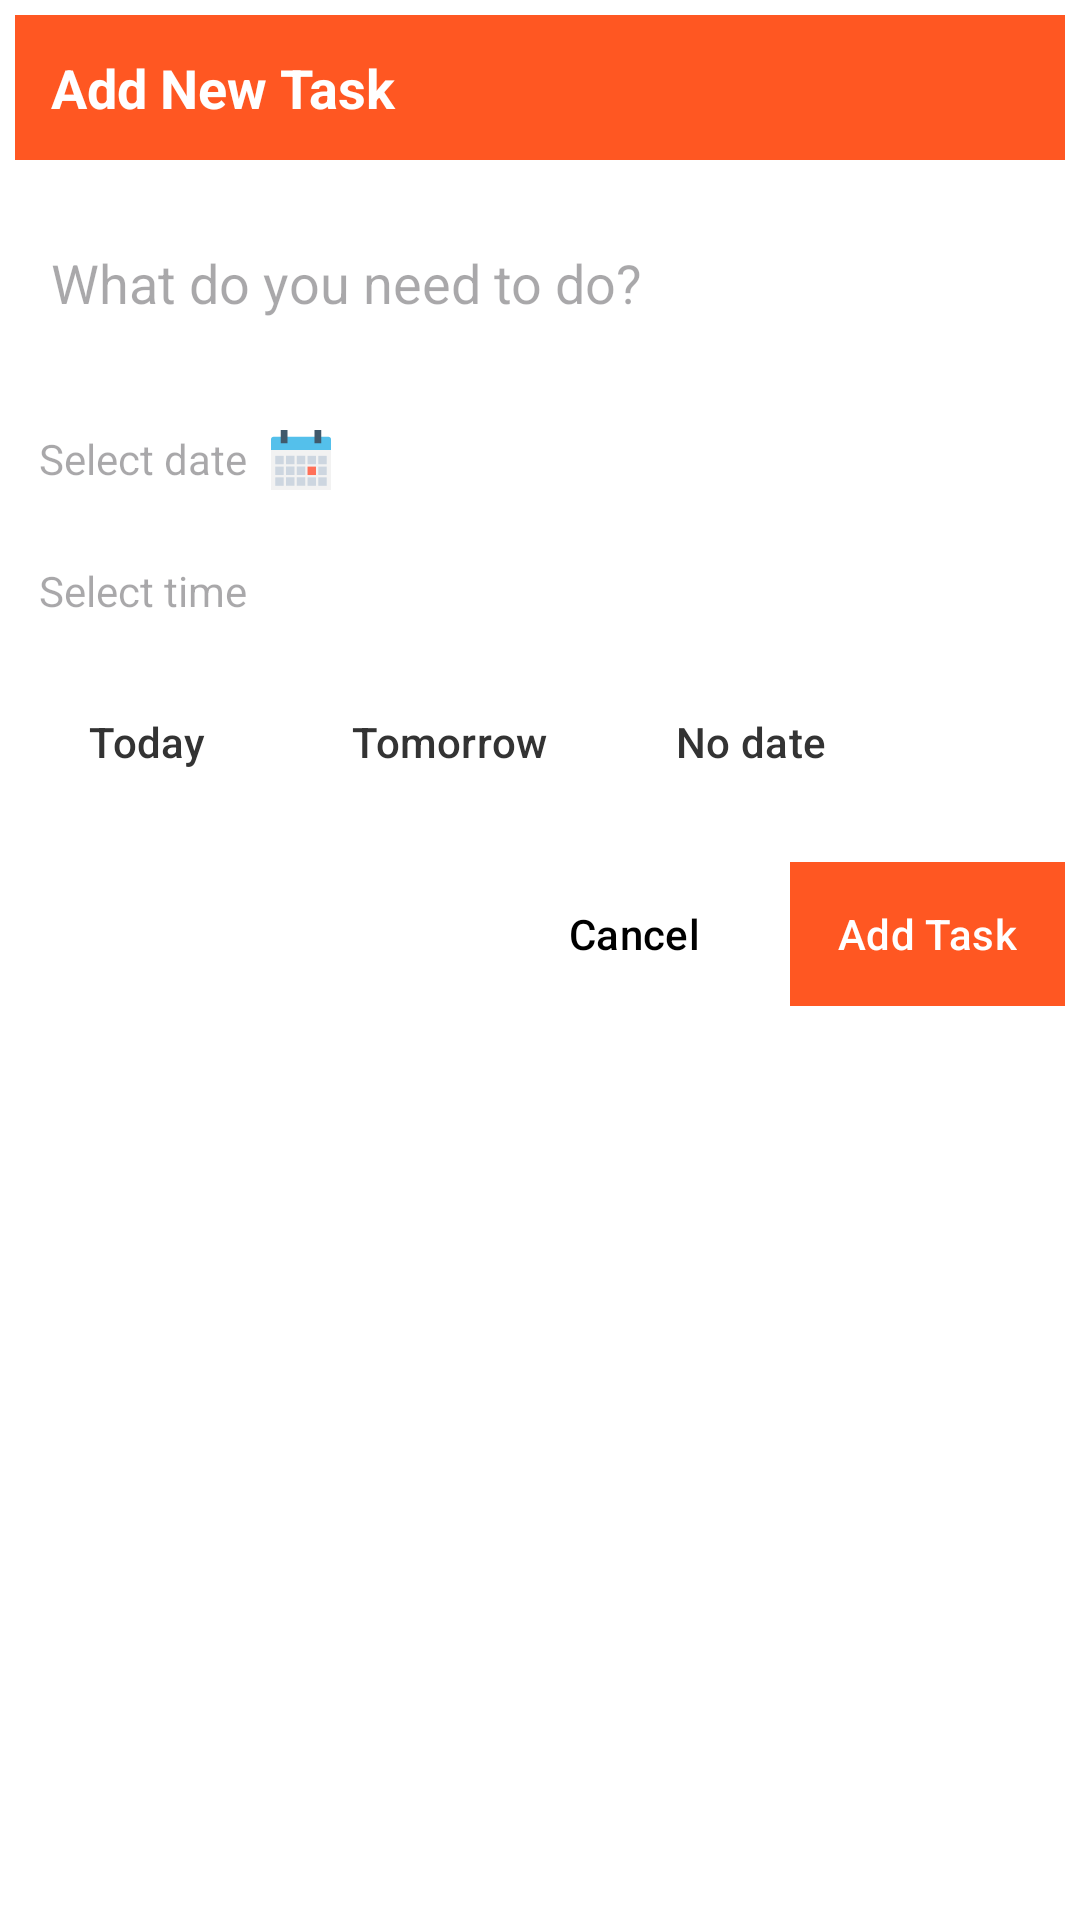

Icons on this 1080px×1920px Android screen, each with the point to tap as (x,y):
calendar: (301,458)
